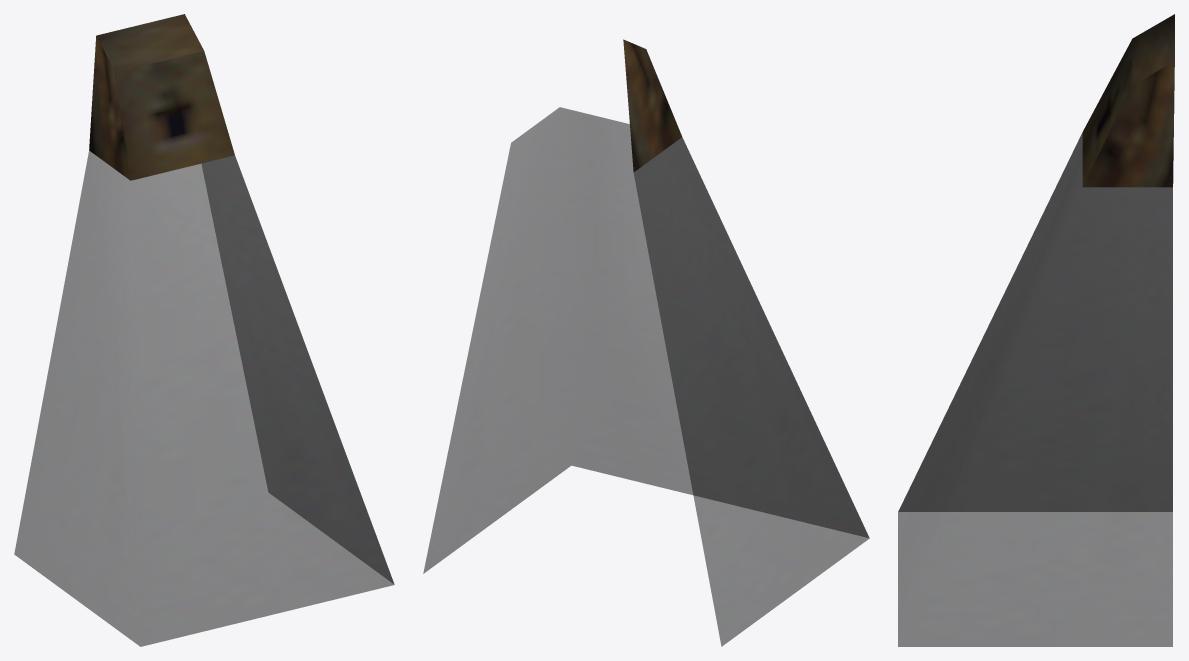
Rendered from prop-045.glb.
3 renders of one model, left to right at view 1: azimuth 30°, elevation 25°; view 2: azimuth 150°, elevation 25°; view 3: azimuth 270°, elevation 25°, orthographic. The views are drawn at different scales.
Visible parts, largest first — view 1: root; view 2: root; view 3: root.
Part boxes in pixels (x1=…): root: x1=14, y1=14, x2=394, y2=646; root: x1=423, y1=39, x2=869, y2=646; root: x1=898, y1=14, x2=1174, y2=646.
Size of the model in its own units: 0.6895 by 1.29 by 0.5977.
Materials: 2 (2 with a texture image).
